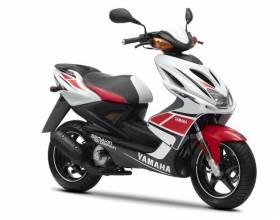motorcycle: (32, 3, 261, 211)
